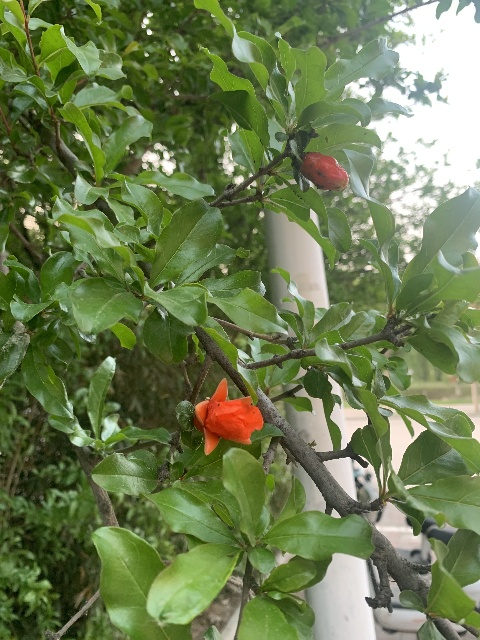bud: (300, 152, 348, 190)
flower: (193, 378, 264, 455)
